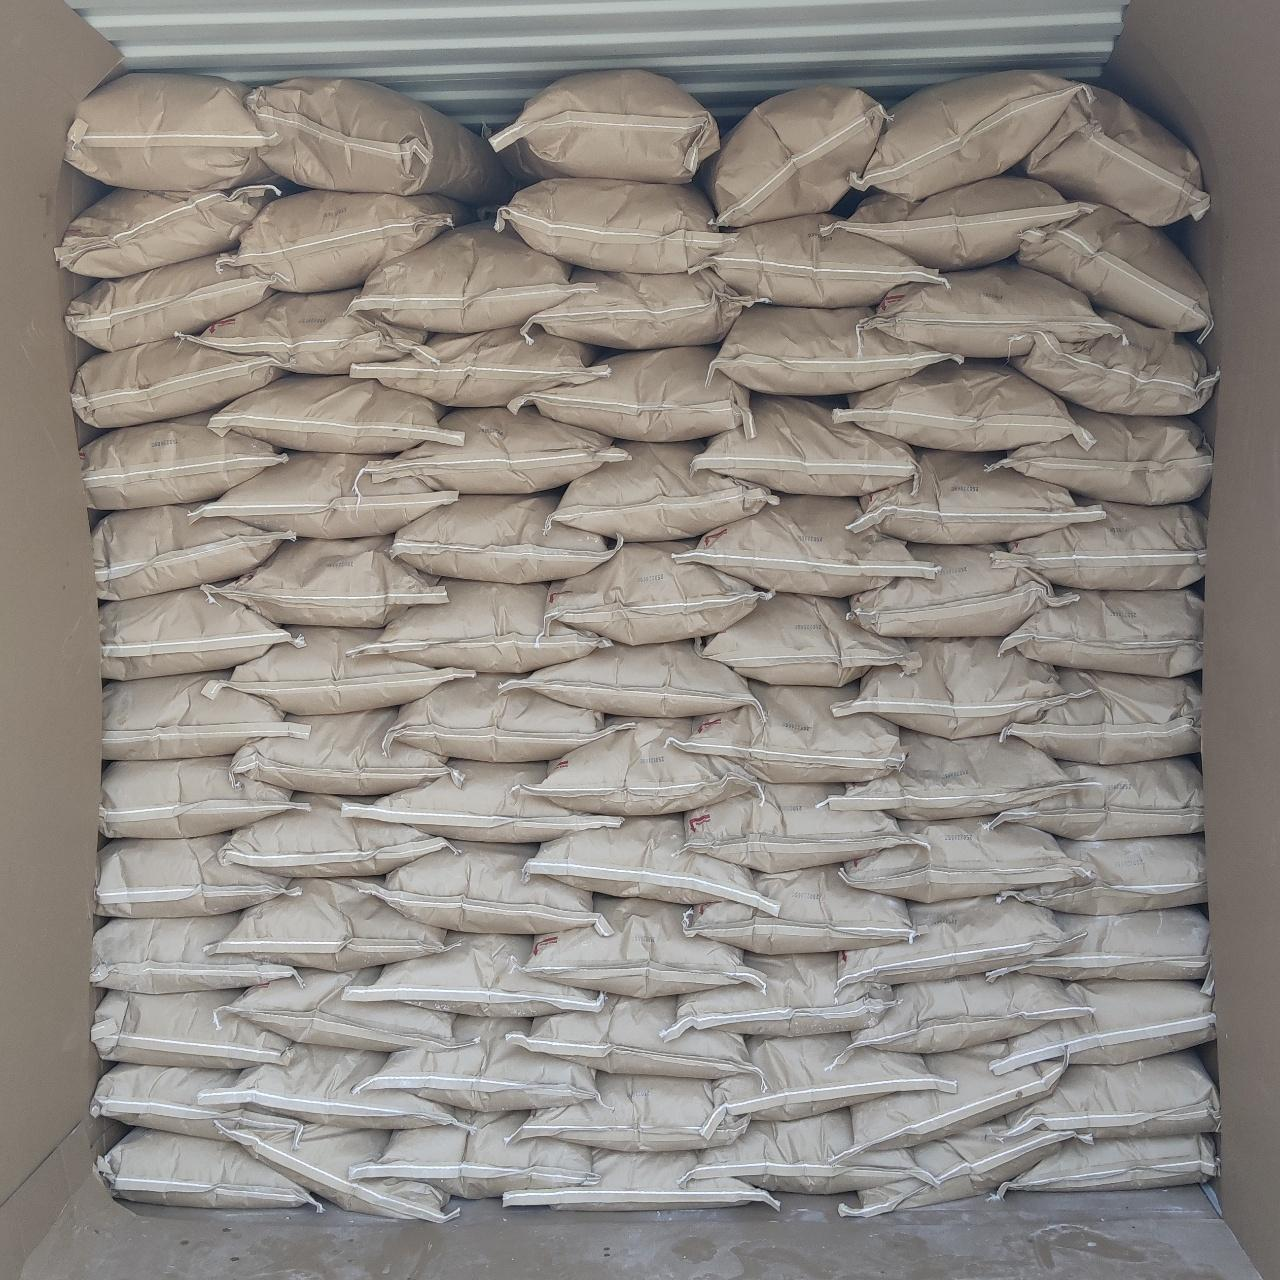sack: (245, 77, 509, 201), (850, 70, 1087, 200), (351, 223, 597, 332), (702, 1032, 955, 1137), (701, 85, 888, 226), (677, 496, 936, 597), (1016, 206, 1212, 339), (842, 1042, 1062, 1160), (1021, 87, 1209, 225), (217, 190, 471, 292), (832, 639, 1090, 739), (524, 815, 779, 916), (829, 971, 1091, 1069), (822, 177, 1098, 269), (490, 71, 718, 182), (65, 73, 279, 190), (860, 261, 1120, 357), (524, 895, 765, 998), (832, 357, 1095, 451), (511, 716, 758, 816), (822, 728, 1092, 819), (347, 580, 609, 673), (219, 1121, 458, 1222), (202, 626, 473, 715), (667, 681, 903, 783), (847, 450, 1105, 543), (838, 1123, 1093, 1217), (198, 1044, 473, 1131), (689, 215, 948, 307), (207, 879, 464, 971), (707, 303, 963, 395), (508, 347, 755, 442), (360, 842, 612, 935), (363, 407, 628, 494), (547, 441, 777, 541), (837, 895, 1068, 994), (189, 452, 458, 537), (357, 1016, 597, 1111), (545, 544, 769, 645), (987, 404, 1211, 505), (494, 180, 737, 273), (692, 397, 920, 496), (342, 761, 620, 842), (352, 1108, 599, 1198), (177, 288, 438, 373), (201, 537, 447, 627), (341, 933, 601, 1017), (216, 967, 475, 1051), (384, 676, 633, 762), (686, 1108, 935, 1194), (685, 784, 927, 872), (990, 981, 1215, 1075), (507, 995, 758, 1079), (55, 184, 279, 278), (1010, 312, 1217, 413), (852, 545, 1079, 637), (695, 594, 921, 686), (500, 641, 763, 720), (522, 267, 775, 349), (350, 327, 608, 407), (841, 819, 1088, 902), (682, 865, 912, 954), (229, 707, 461, 795), (661, 952, 893, 1040), (392, 491, 616, 582), (1002, 1050, 1219, 1142), (66, 255, 273, 351), (209, 375, 463, 453), (220, 794, 458, 877), (72, 337, 288, 428), (82, 413, 284, 510), (507, 1072, 749, 1151), (100, 586, 303, 680), (92, 505, 294, 599), (990, 502, 1204, 589), (1006, 668, 1201, 763), (97, 1128, 321, 1210), (985, 757, 1203, 841), (102, 672, 310, 759), (990, 834, 1207, 915), (1001, 590, 1202, 677), (90, 912, 304, 993), (96, 834, 299, 918), (986, 906, 1209, 982), (99, 757, 309, 837), (505, 1151, 779, 1210), (91, 989, 293, 1068), (90, 1063, 299, 1138), (992, 1135, 1220, 1199)
